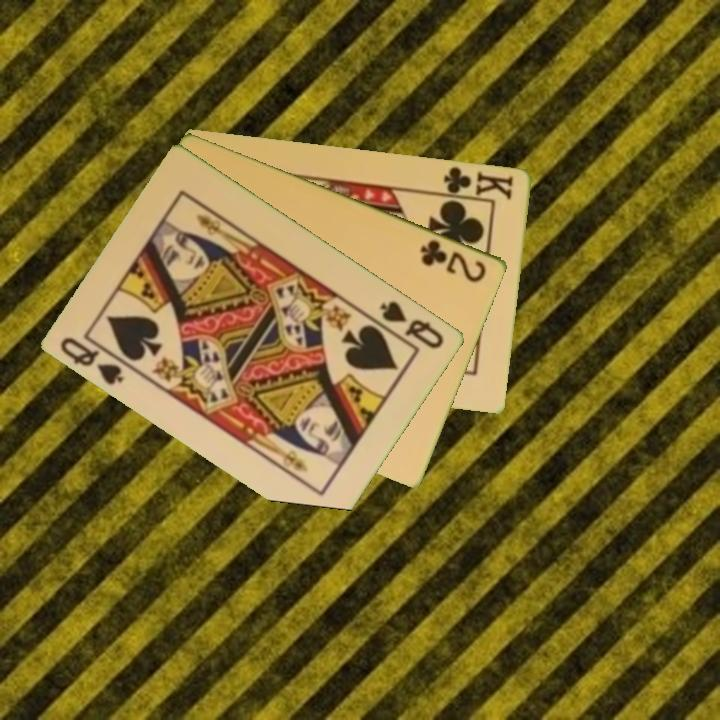2c: (417, 235, 490, 286)
Kc: (436, 162, 517, 203)
Qs: (377, 297, 447, 352), (57, 333, 127, 388)
